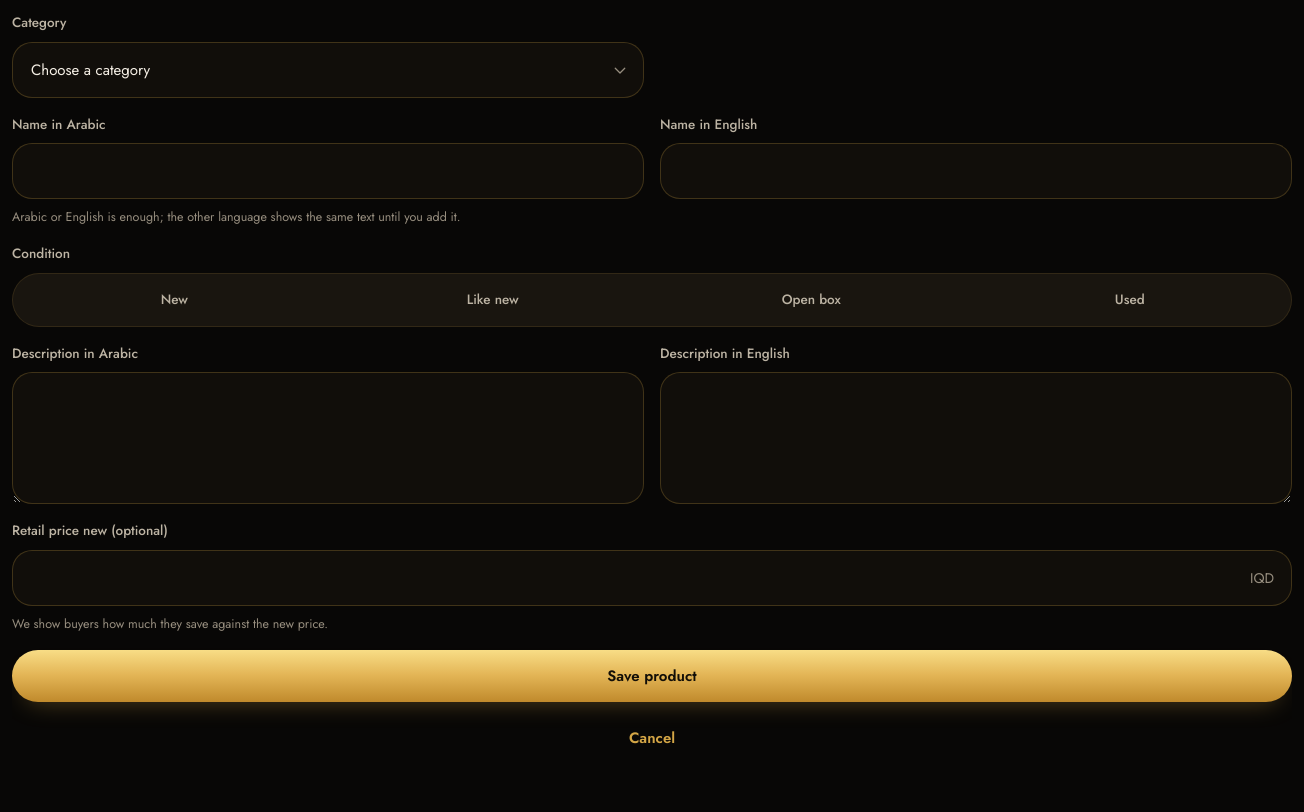
Test: ProductForm: new retail price › refuses text that is not a number
Select "Cameras" in the dropdown labelled "Category" at (328, 70), box left=12, top=42, right=644, bottom=98
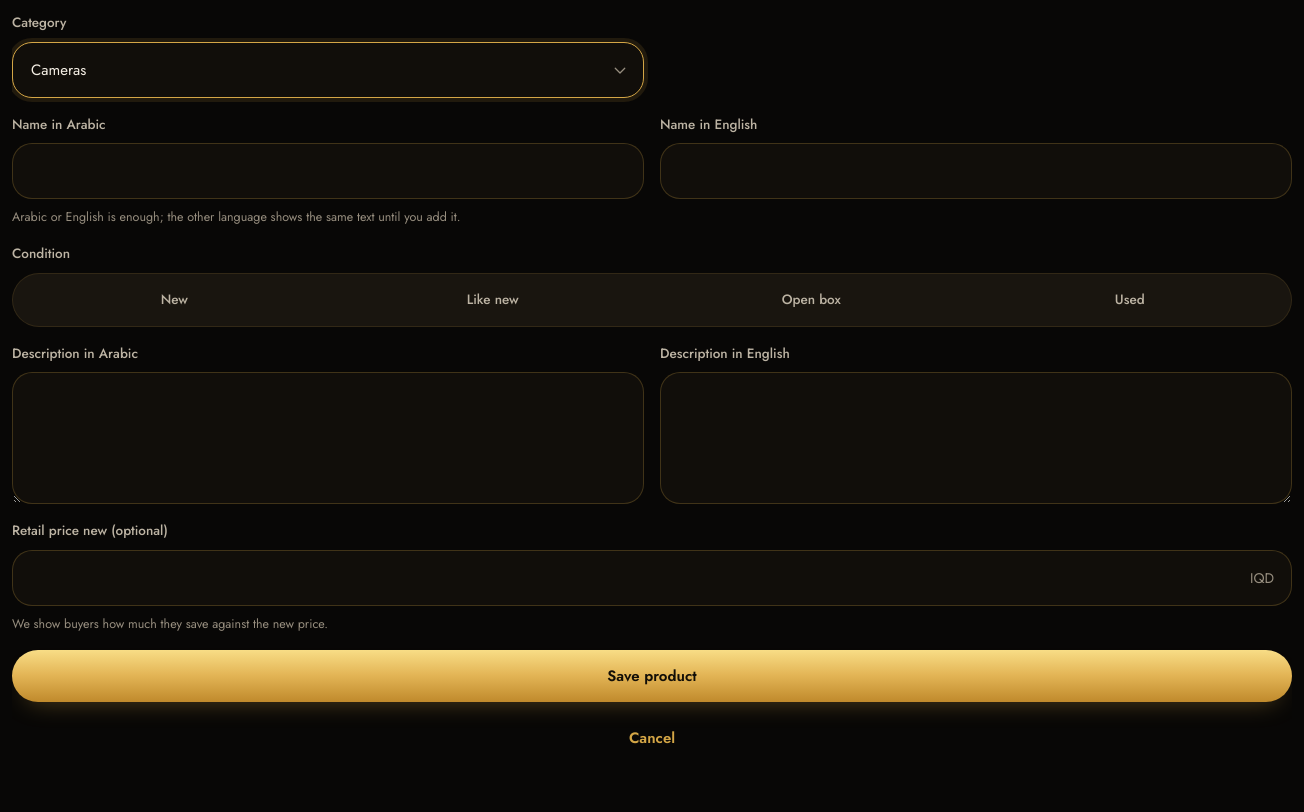
Type "Camera" into the field labelled "Name in English" at (976, 171), box left=660, top=143, right=1292, bottom=199
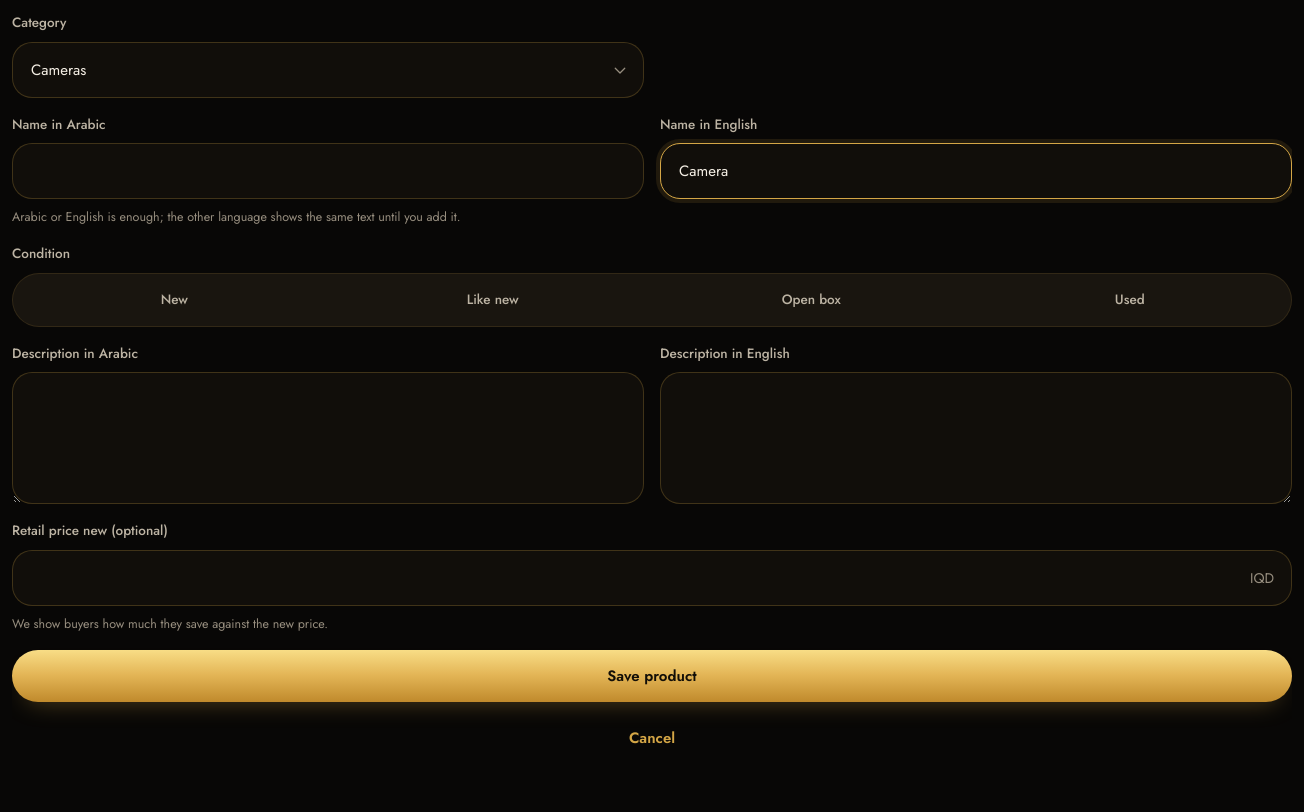
Type "Works." into the text box labelled "Description in English" at (976, 438), box left=660, top=372, right=1292, bottom=504
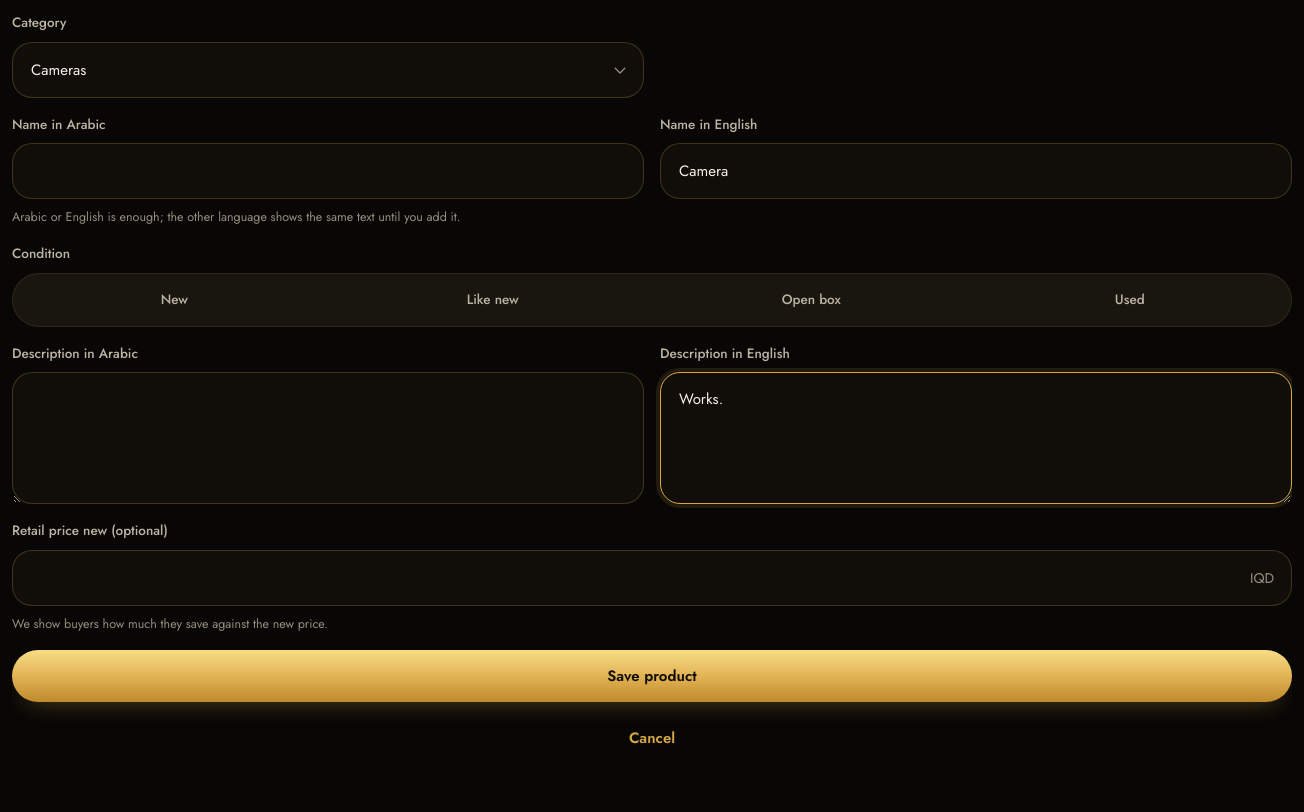
Click the radio button labelled "Like new" at (493, 300), box left=467, top=290, right=519, bottom=309
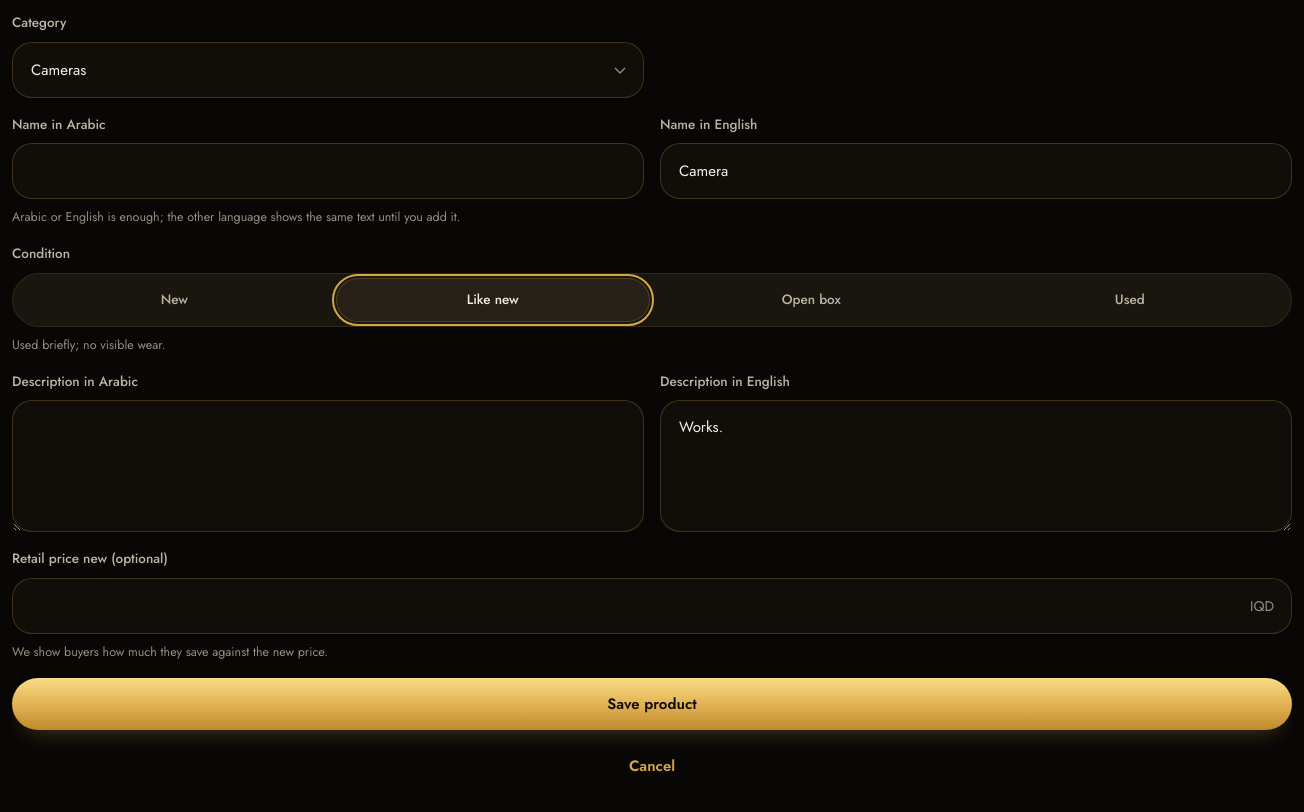
Type "abc" into the field labelled "Retail price new (optional)" at (652, 606), box left=12, top=578, right=1292, bottom=634
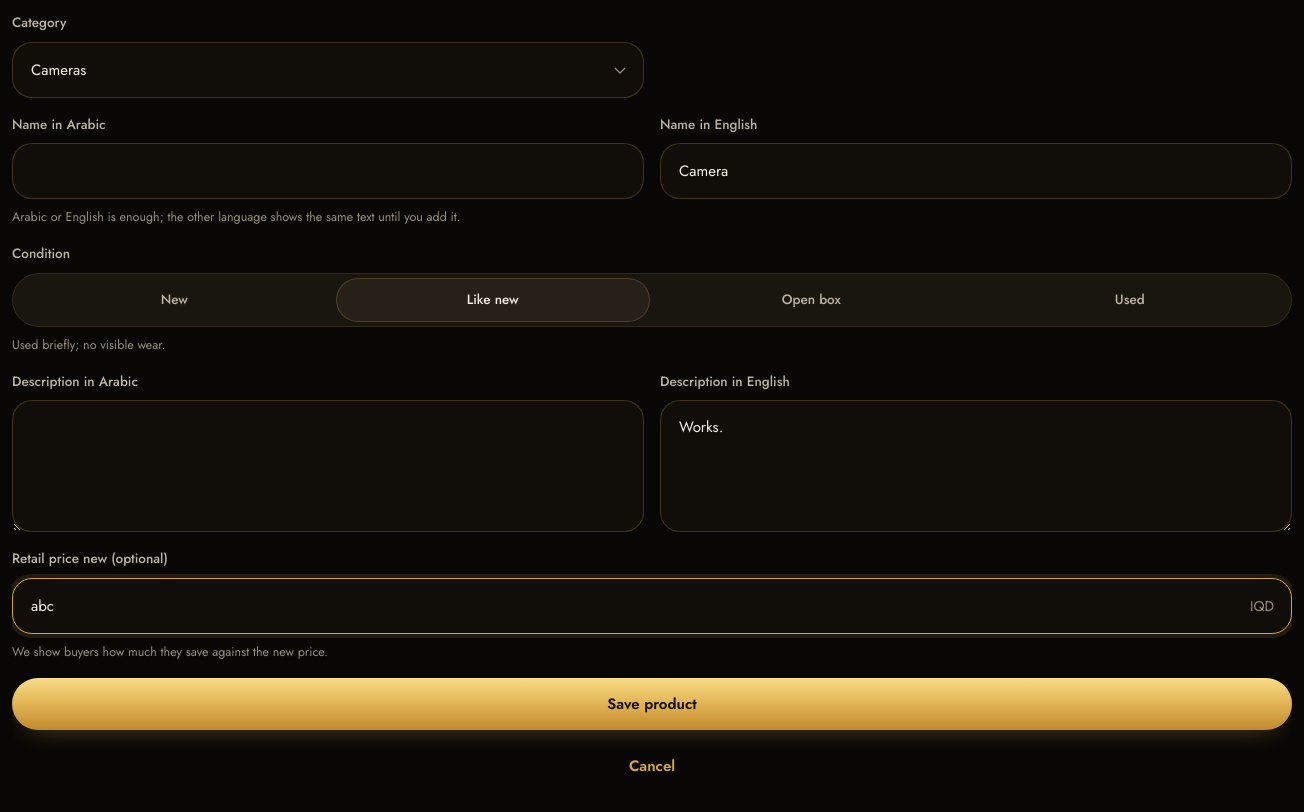
Click the button "Save product" at (652, 704), box left=12, top=678, right=1292, bottom=730
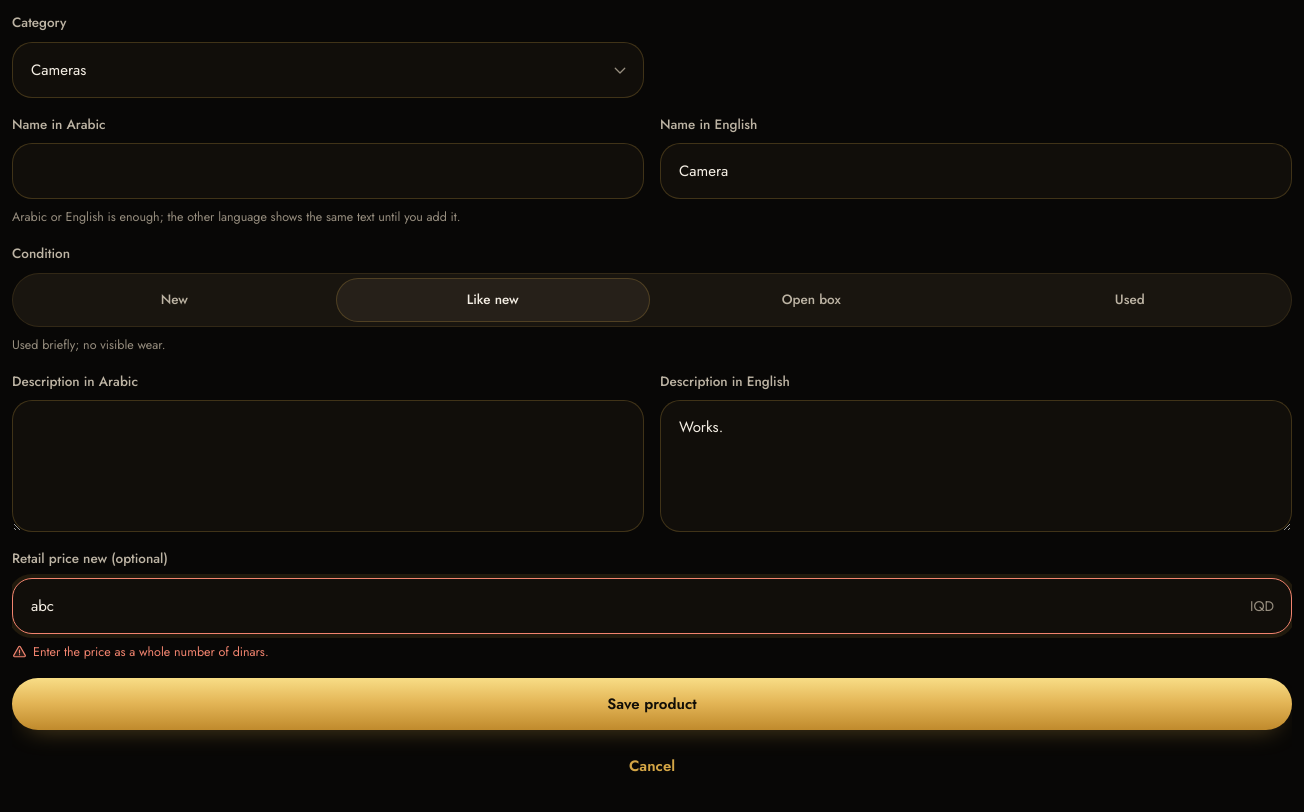
Now the text "Enter the price as a whole number of dinars." is shown, box left=12, top=643, right=269, bottom=661
